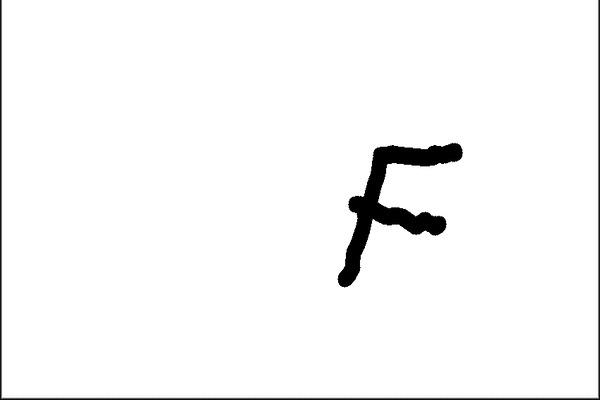F: (332, 140, 464, 289)
